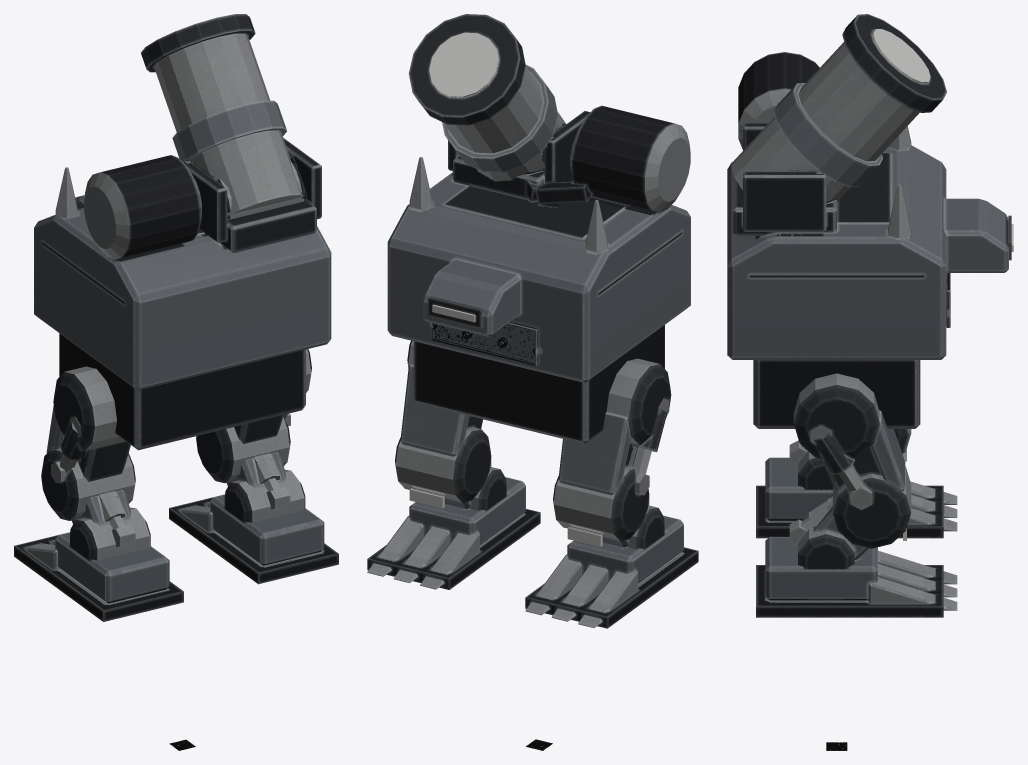
File: chs_spitter.fbx
3 renders of one model, left to right at view 1: azimuth 30°, elevation 25°; view 2: azimuth 150°, elevation 25°; view 3: azimuth 270°, elevation 25°, orthographic. The views are drawn at different scales.
Visible parts, largest first — view 1: torso_bar, barrel_bar, base_bar, thighL_bar, footR_bar, footL_bar, thighR_bar, shinR_bar, shinL_bar; view 2: torso_bar, barrel_bar, base_bar, thighL_bar, footL_bar, footR_bar, thighR_bar, barrel_glow_weapon_bar, shinL_bar, shinR_bar; view 3: torso_bar, barrel_bar, thighR_bar, footR_bar, base_bar, footL_bar, shinR_bar, barrel_glow_weapon_bar, shinL_bar.
Part boxes in pixels (x1,y1,x2,y2): torso_bar: (34, 137, 331, 390); barrel_bar: (141, 14, 303, 219); base_bar: (59, 333, 305, 450); thighL_bar: (41, 366, 135, 520); footR_bar: (169, 494, 338, 584); footL_bar: (14, 532, 183, 621); thighR_bar: (196, 349, 311, 483); shinR_bar: (224, 452, 305, 522); shinL_bar: (70, 489, 150, 560); torso_bar: (387, 105, 690, 382); barrel_bar: (408, 14, 566, 181); base_bar: (413, 325, 664, 443); thighL_bar: (553, 358, 671, 541); footL_bar: (525, 515, 698, 628); footR_bar: (367, 477, 540, 589); thighR_bar: (395, 340, 491, 502); barrel_glow_weapon_bar: (429, 32, 498, 97); shinL_bar: (602, 499, 664, 549); shinR_bar: (444, 460, 506, 510); torso_bar: (727, 52, 1011, 359); barrel_bar: (731, 14, 946, 202); thighR_bar: (793, 373, 911, 548); footR_bar: (756, 537, 957, 617); base_bar: (753, 360, 920, 428); footL_bar: (756, 457, 957, 538); shinR_bar: (789, 493, 868, 569); barrel_glow_weapon_bar: (872, 29, 930, 83); shinL_bar: (789, 440, 832, 489).
Bounding box in the file's own units: 274 × 790 × 274.
2 materials, 2 textured.
